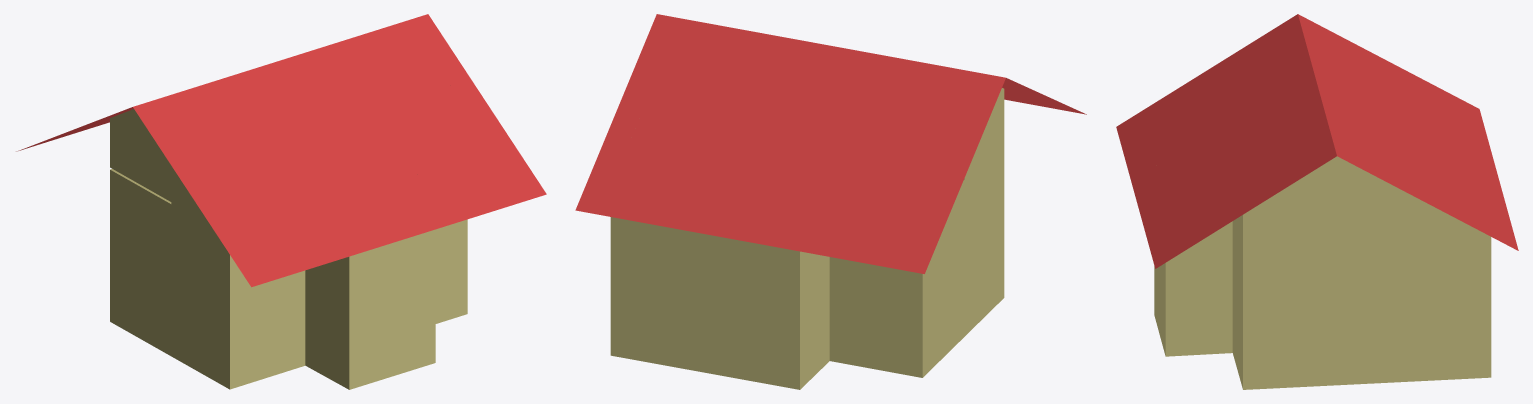
The picture shows the model from 3 angles, left to right: view 1: azimuth 30°, elevation 25°; view 2: azimuth 150°, elevation 25°; view 3: azimuth 270°, elevation 25°; orthographic projection. The views are drawn at different scales.
Bounding box in the file's own units: 17.82 × 18.94 × 12.41.
